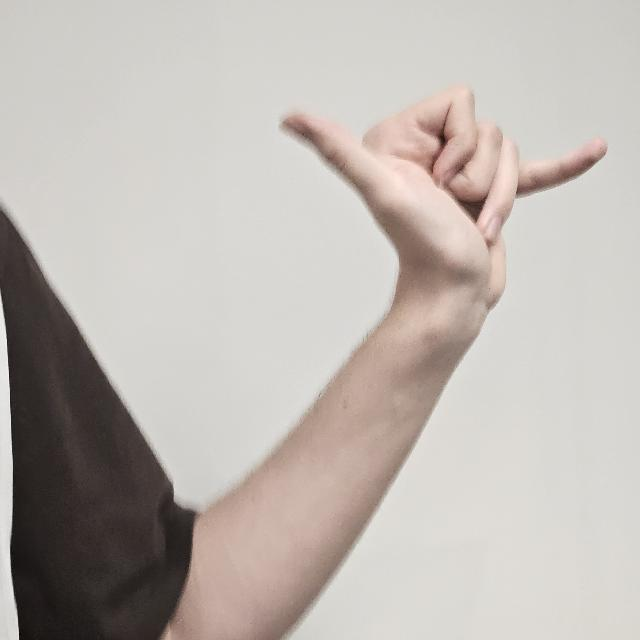Direita: (273, 70, 621, 272)
